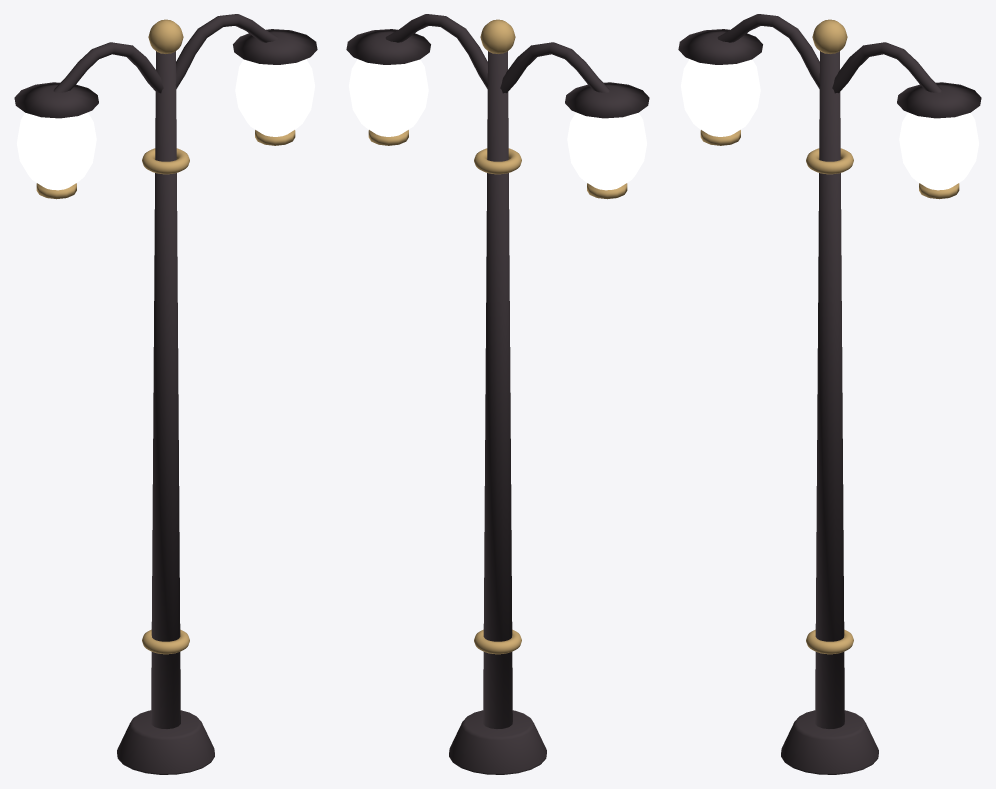
Rendered from plaza_lamp.glb.
3 views of the same model, side by side, from view 1: azimuth 30°, elevation 25°; view 2: azimuth 150°, elevation 25°; view 3: azimuth 330°, elevation 25° (orthographic).
Parts seen in each view (by area): view 1: Cone; view 2: Cone; view 3: Cone.
Boxes of the visible parts, x1=… form: Cone: x1=14, y1=14, x2=317, y2=774; Cone: x1=346, y1=14, x2=649, y2=774; Cone: x1=678, y1=14, x2=981, y2=774.
Size of the model in its own units: 1.33 by 3.21 by 0.3921.
